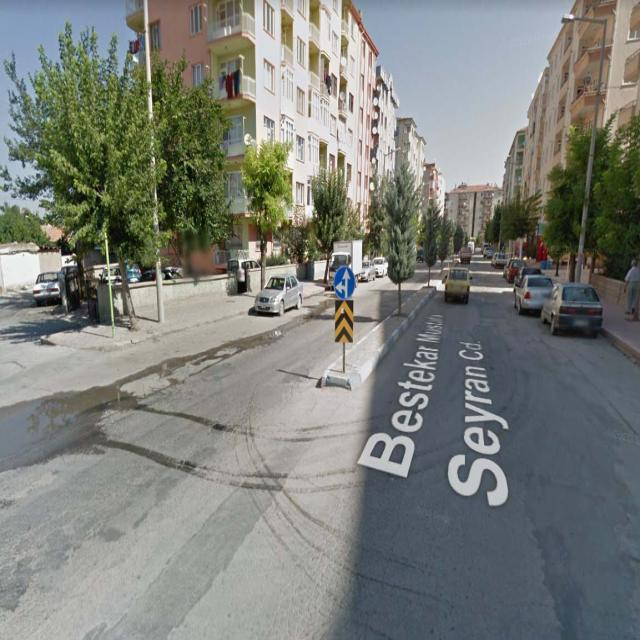ilerisol: (335, 265, 355, 299)
